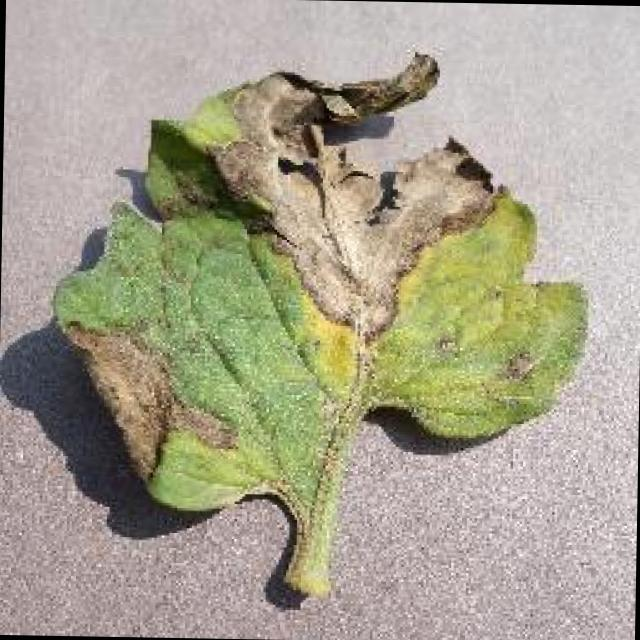Tomato late blight leaf: (49, 35, 596, 523)
